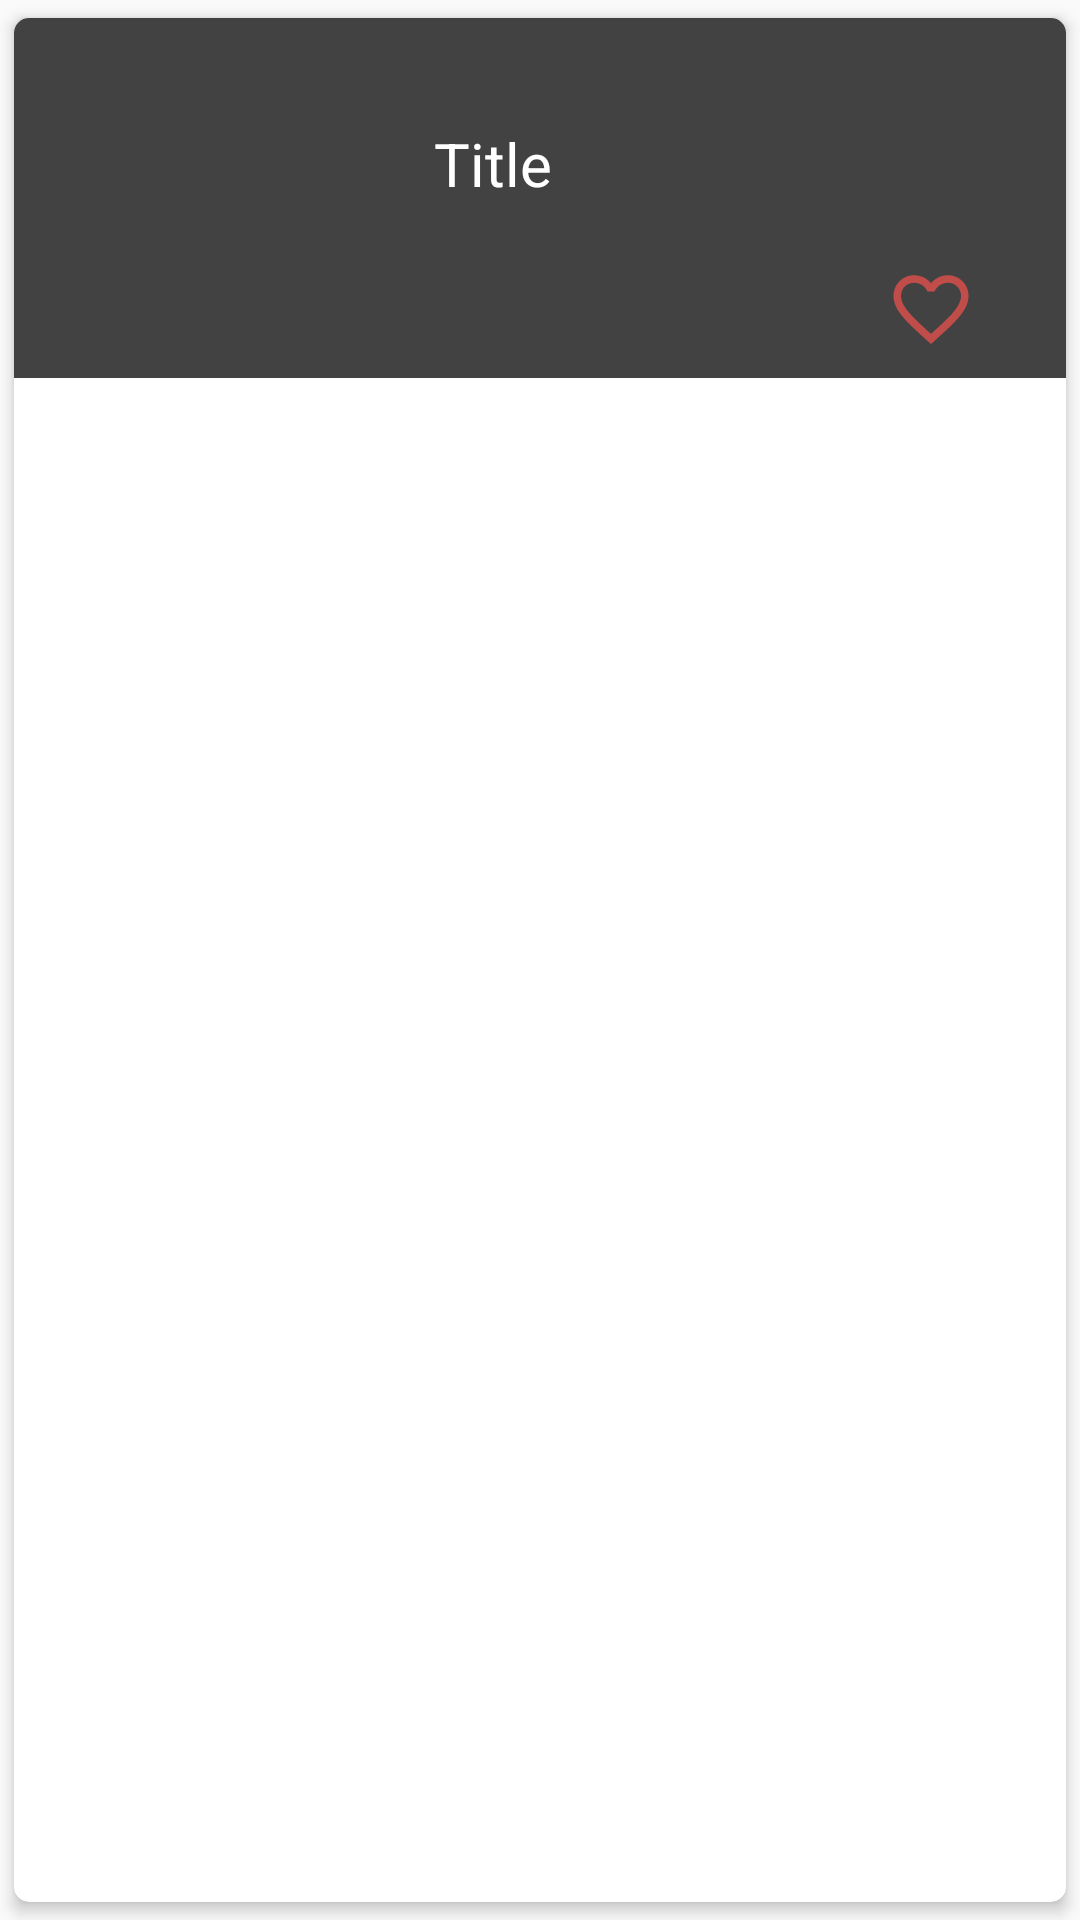

Locate icon controls on the screen. Image size 1080 × 1920, boxes as (x1, y1, x2, y2).
favorite border: (893, 275, 969, 344)
